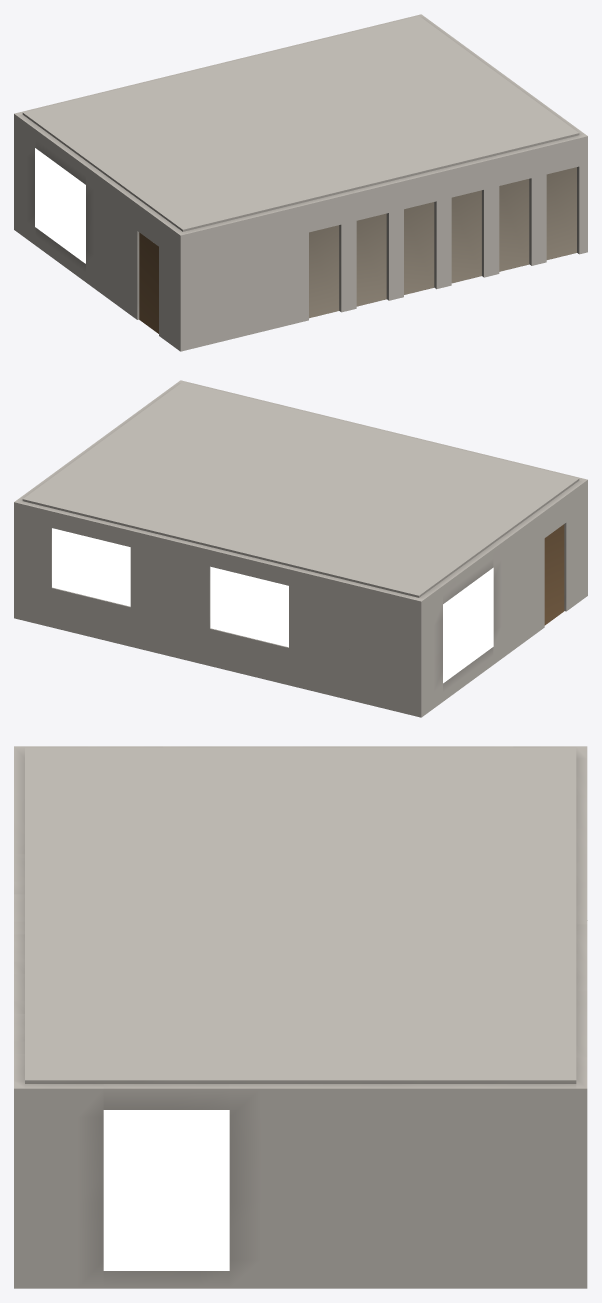
File: home.glb
3 views of the same model, one above another, from view 1: azimuth 30°, elevation 25°; view 2: azimuth 150°, elevation 25°; view 3: azimuth 270°, elevation 25° (orthographic). The views are drawn at different scales.
Parts seen in each view (by area): view 1: ceiling, walls, windows, other_door_1, other_door_2, other_door_3, other_door_4, other_door_5, other_door_0, front_door; view 2: ceiling, walls, windows, front_door; view 3: ceiling, walls, windows.
Boxes of the visible parts, x1,y1,x2,y2 form: ceiling: (22, 16, 579, 231); walls: (14, 14, 587, 351); windows: (35, 148, 85, 263); other_door_1: (356, 213, 386, 306); other_door_2: (404, 202, 434, 294); other_door_3: (451, 190, 481, 283); other_door_4: (499, 179, 529, 271); other_door_5: (546, 167, 576, 259); other_door_0: (309, 225, 339, 318); front_door: (139, 232, 158, 333); ceiling: (22, 382, 579, 597); walls: (14, 380, 587, 717); windows: (52, 528, 493, 683); front_door: (544, 524, 564, 625); ceiling: (25, 747, 576, 1083); walls: (14, 746, 587, 1288); windows: (103, 1110, 229, 1270).
Size of the model in its own units: 10.3 by 2.85 by 7.29.
